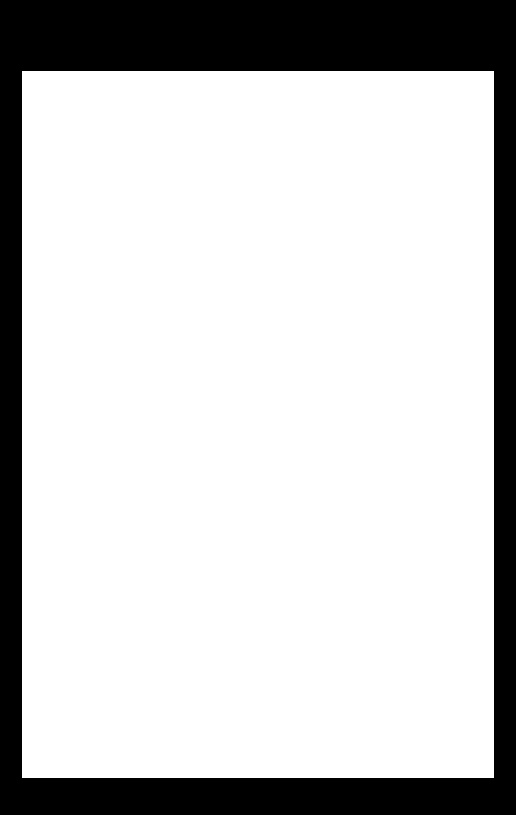table: (22, 71, 493, 777)
